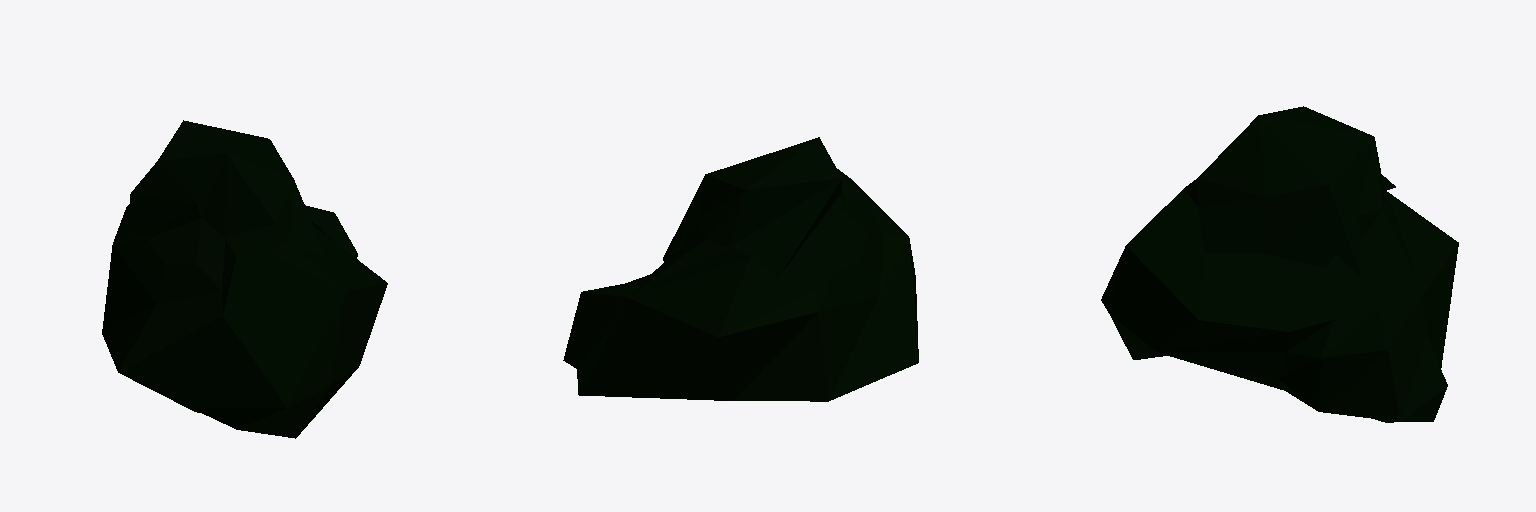
The model's file is bush-clear.obj.
The picture shows the model from 3 angles: view 1: azimuth 30°, elevation 25°; view 2: azimuth 150°, elevation 25°; view 3: azimuth 270°, elevation 25°; orthographic projection.
Parts seen in each view (by area): view 1: bush; view 2: bush; view 3: bush.
Part boxes in pixels (x1,y1,x2,y2): bush: (102,120,387,438); bush: (563,137,918,401); bush: (1101,106,1458,422).
Bounding box in the file's own units: 2.86 × 2.29 × 3.07.